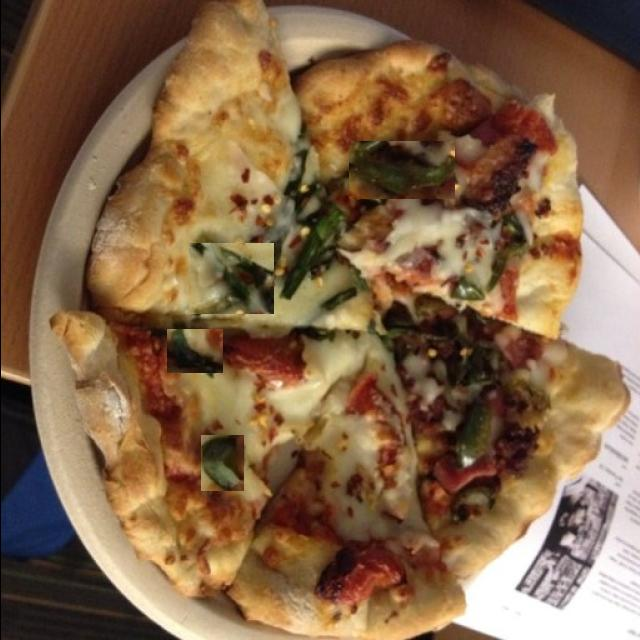basil: (284, 199, 346, 305), (348, 142, 454, 200), (188, 243, 273, 314), (166, 329, 222, 373), (200, 435, 243, 491)
pizza: (49, 4, 628, 640)
